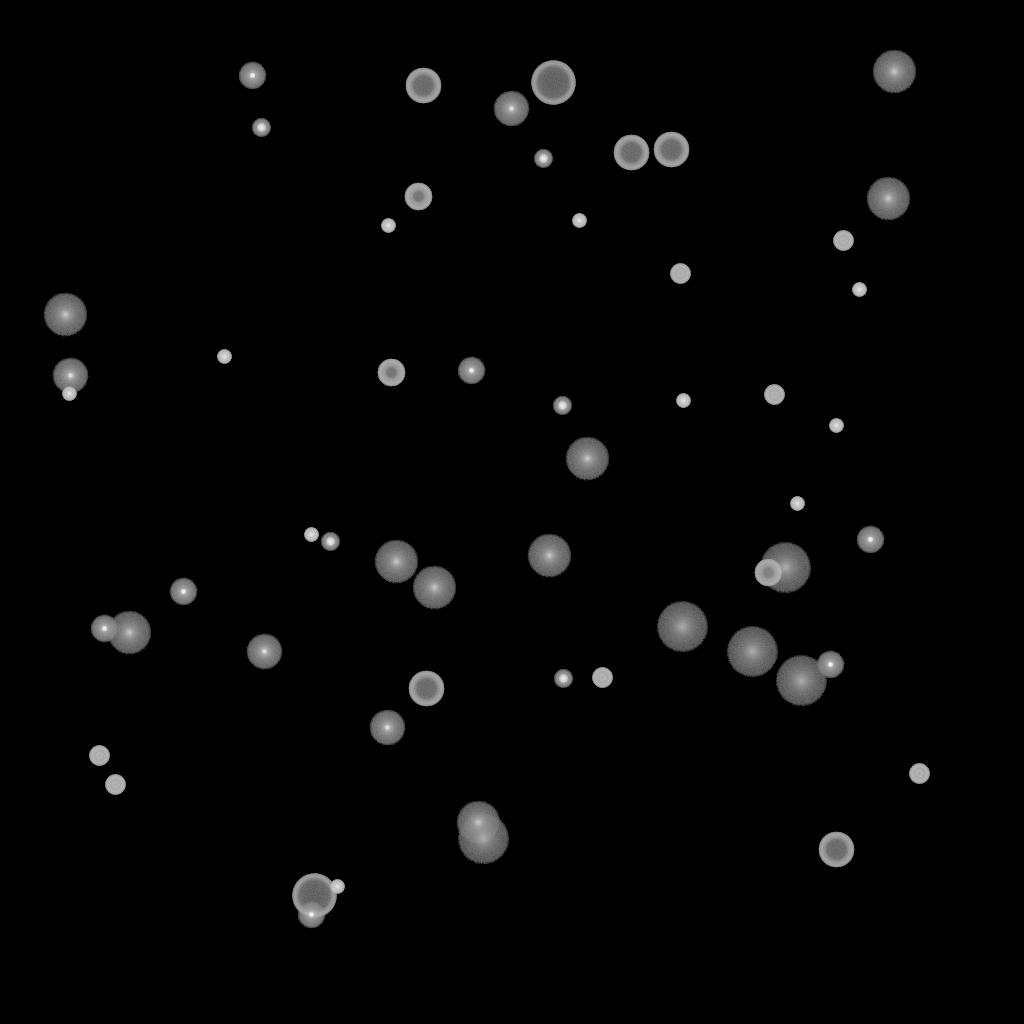depth:-10: (856, 526, 884, 554), (816, 651, 844, 679), (238, 62, 266, 90), (297, 901, 325, 929), (457, 357, 485, 385), (90, 615, 118, 643), (169, 578, 197, 606)
depth:-20: (553, 397, 571, 415), (252, 119, 270, 137), (554, 670, 572, 688), (321, 533, 339, 551), (534, 150, 552, 168)
depth:-30: (852, 283, 866, 297), (572, 214, 586, 228), (790, 497, 804, 511), (676, 394, 690, 408), (217, 350, 231, 364), (330, 880, 344, 894), (381, 219, 395, 233), (304, 528, 318, 542), (62, 387, 76, 401), (829, 419, 843, 433)
depth:-40: (833, 231, 853, 251), (764, 385, 784, 405), (592, 668, 612, 688), (105, 775, 125, 795), (89, 746, 109, 766), (670, 264, 690, 284), (909, 764, 929, 784)
depth:-50: (377, 359, 405, 387), (404, 183, 432, 211), (754, 559, 782, 587)
depth:-60: (613, 135, 649, 171), (408, 671, 444, 707), (653, 132, 689, 168), (818, 832, 854, 868), (405, 68, 441, 104)
depth:-70: (531, 61, 575, 105), (292, 874, 336, 918)
depth:0: (246, 634, 282, 670), (52, 358, 88, 394), (493, 91, 529, 127), (369, 710, 405, 746)
depth:10: (565, 437, 609, 481), (374, 540, 418, 584), (872, 50, 916, 94), (527, 534, 571, 578), (866, 177, 910, 221), (412, 566, 456, 610), (456, 801, 500, 845), (43, 293, 87, 337), (107, 611, 151, 655)
depth:20: (775, 656, 827, 706), (726, 627, 778, 677), (759, 543, 811, 593), (457, 814, 509, 864), (656, 602, 708, 652)
